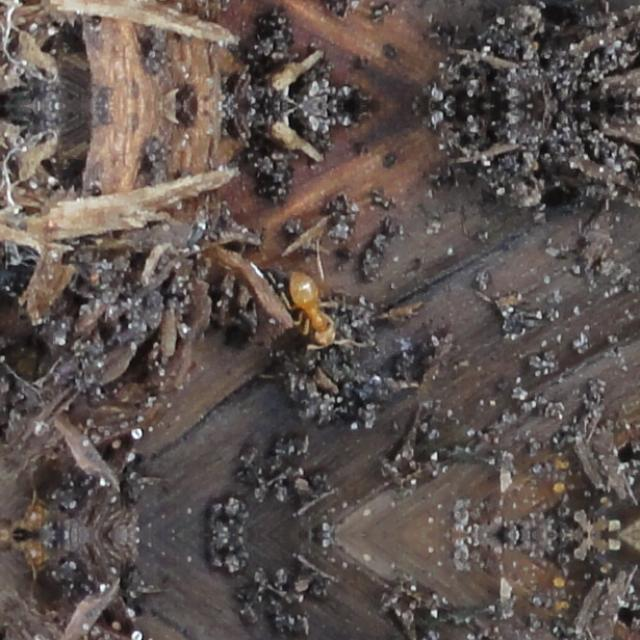Lasius: (271, 264, 365, 354)
